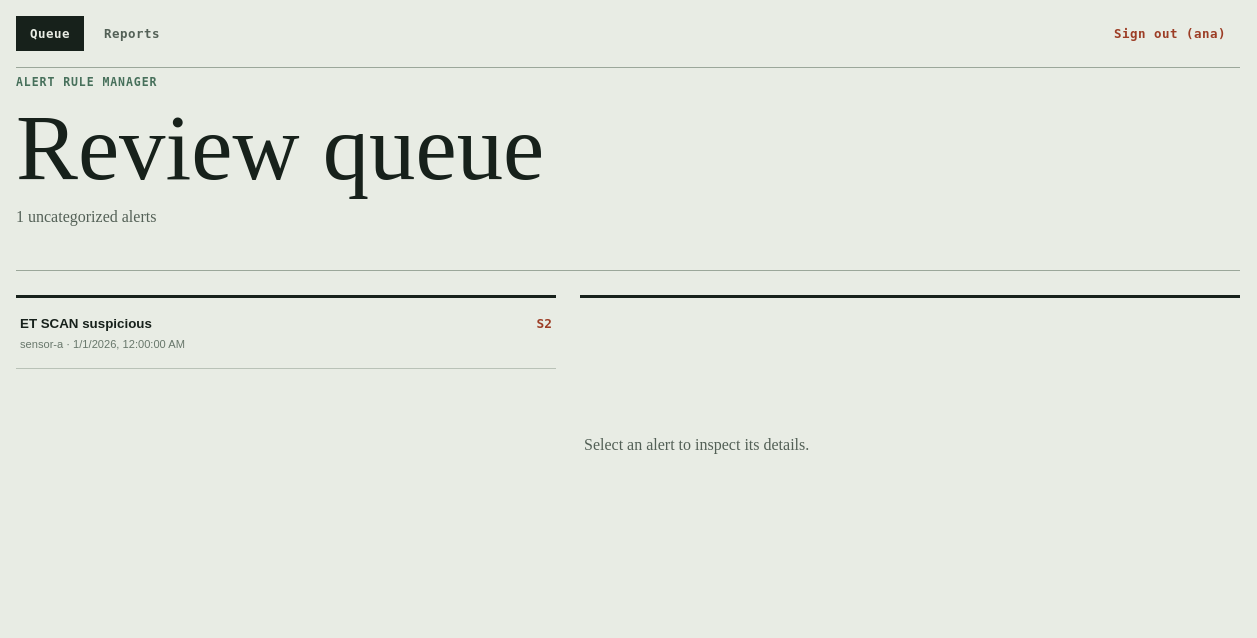
Scenario: categorization › removes an alert from the queue once it is categorized
Click the text "ET SCAN suspicious" at [86, 324], box [20, 316, 152, 331]
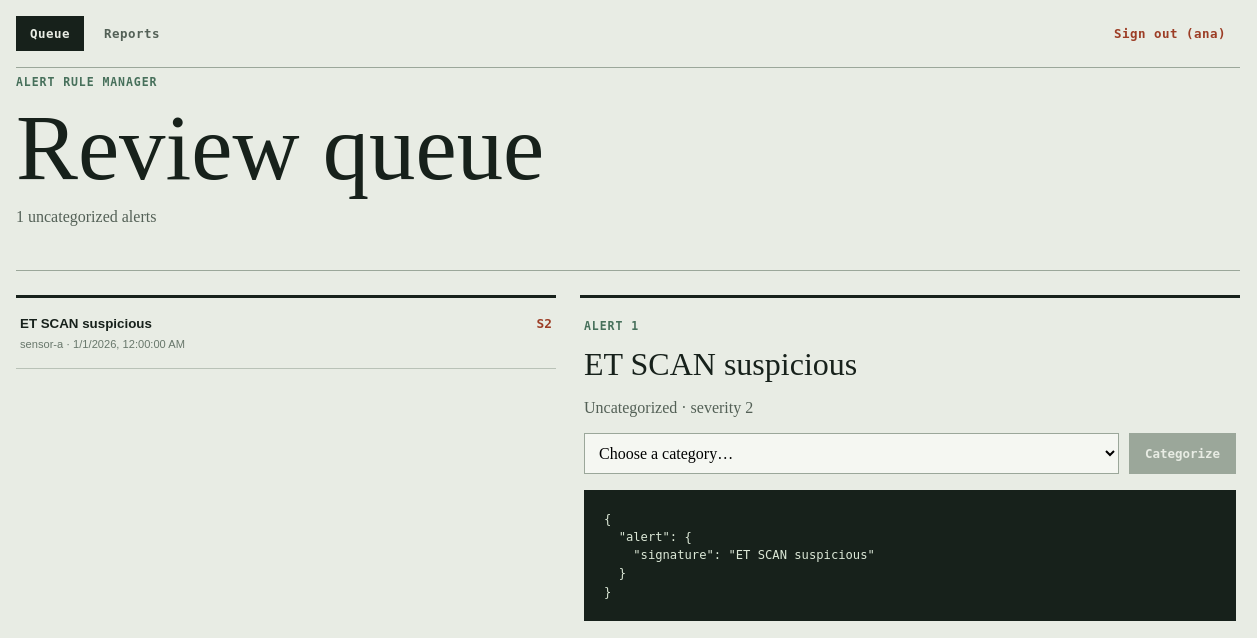
Select "Recon" in the dropdown at [851, 453], box [584, 433, 1119, 474]
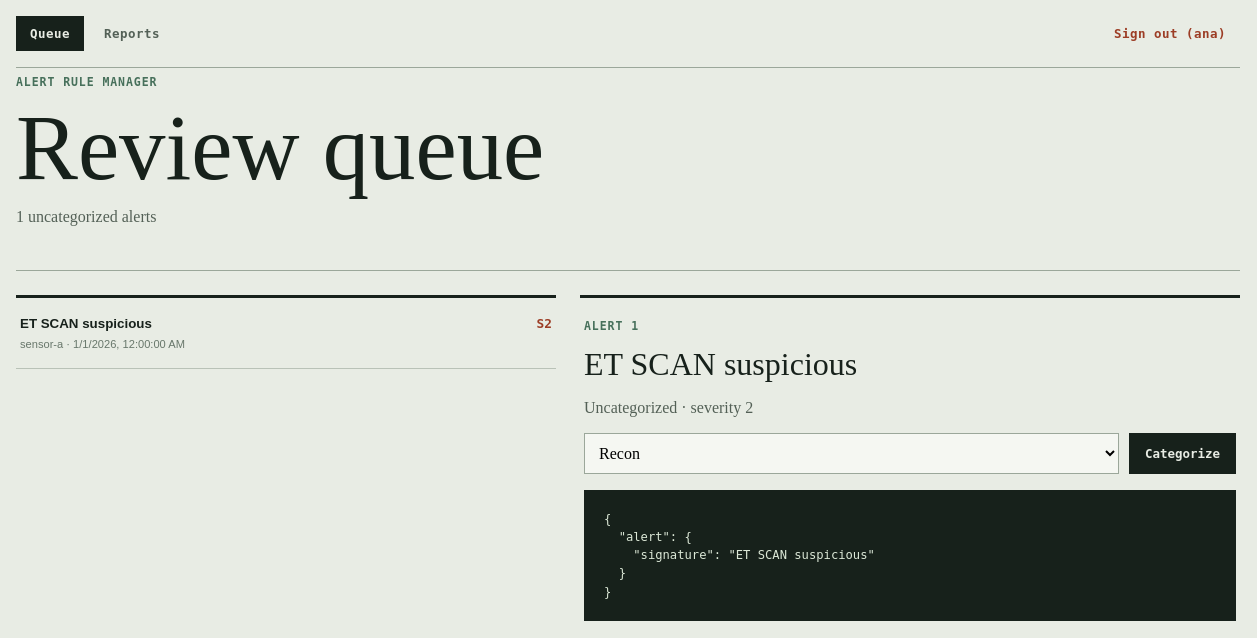
Click the button "Categorize" at [1182, 453], box [1129, 433, 1236, 474]
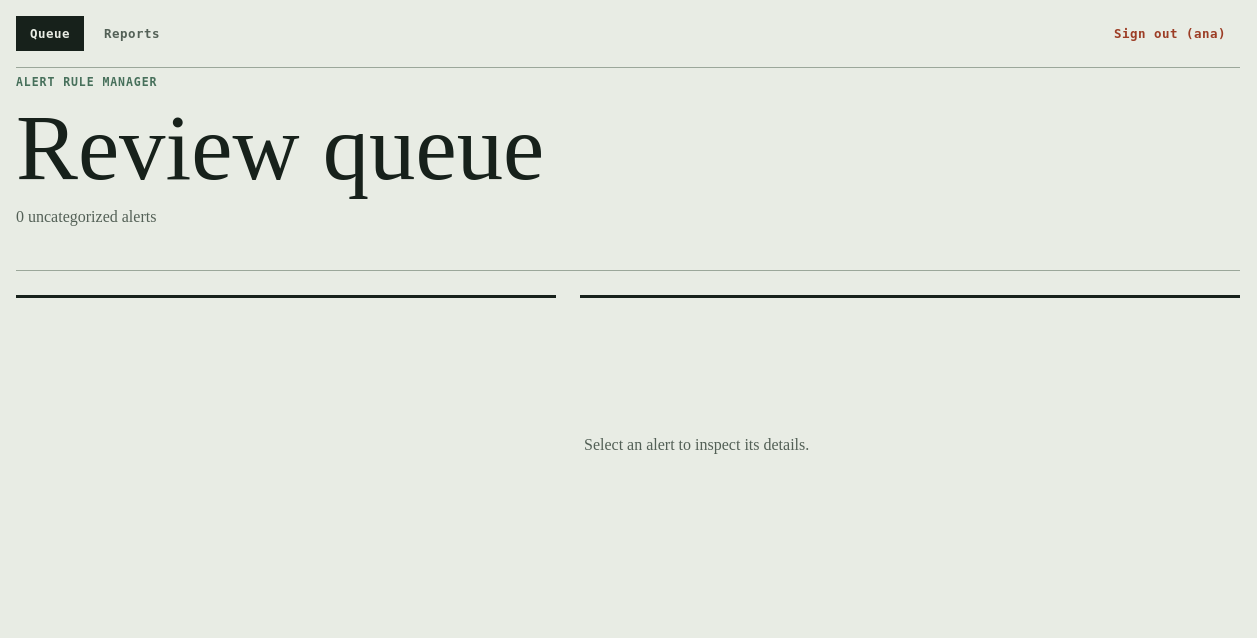
Check: the button "ET SCAN suspicious" is gone
Check: the text "0 uncategorized alerts" is shown, box [16, 208, 156, 225]
